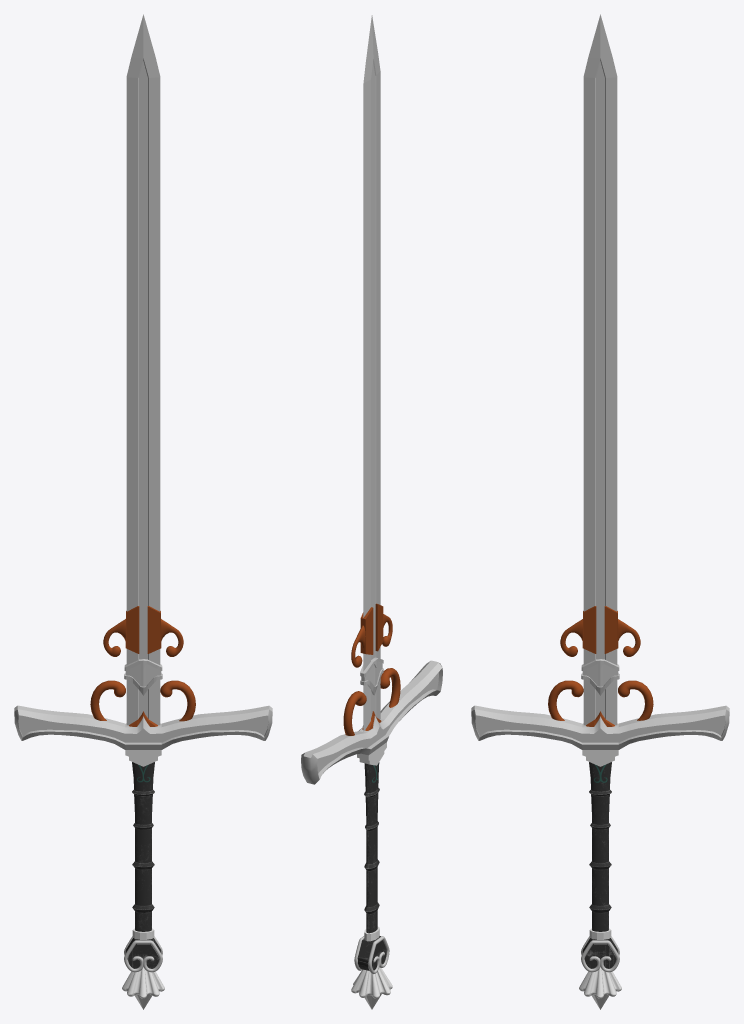
The model's file is Forme's sword - Copy.fbx.
3 views of the same model, side by side, from view 1: azimuth 90°, elevation 25°; view 2: azimuth 150°, elevation 25°; view 3: azimuth 270°, elevation 25° (orthographic).
Visible parts, largest first — view 1: lame, garde, Cylinder.002, ornement milieu, ornement garde, Cube.003, Cylinder.005, courbe dessus, BezierCurve, Cube.002; view 2: lame, garde, Cylinder.002, ornement garde, ornement milieu, Cylinder.005, Cube.002, Cube.003, courbe dessus, BezierCurve; view 3: lame, garde, Cylinder.002, ornement milieu, ornement garde, Cube.003, Cylinder.005, courbe dessus, BezierCurve, Cube.002.
Boxes of the visible parts, box(x1,y1,x2,y2) form: lame: box(126, 14, 160, 725); garde: box(14, 705, 272, 749); Cylinder.002: box(132, 762, 154, 940); ornement milieu: box(125, 606, 161, 653); ornement garde: box(90, 680, 195, 721); Cube.003: box(124, 659, 162, 695); Cylinder.005: box(122, 967, 164, 998); courbe dessus: box(103, 619, 183, 656); BezierCurve: box(124, 936, 162, 972); Cube.002: box(125, 938, 161, 968); lame: box(363, 15, 380, 731); garde: box(301, 660, 442, 784); Cylinder.002: box(364, 762, 379, 941); ornement garde: box(343, 668, 400, 735); ornement milieu: box(360, 603, 383, 654); Cylinder.005: box(351, 967, 392, 998); Cube.002: box(357, 936, 386, 970); Cube.003: box(360, 657, 383, 695); courbe dessus: box(351, 614, 392, 667); BezierCurve: box(354, 936, 389, 974); lame: box(583, 14, 617, 725); garde: box(471, 705, 729, 749); Cylinder.002: box(589, 762, 611, 940); ornement milieu: box(582, 606, 618, 653); ornement garde: box(548, 680, 653, 720); Cube.003: box(581, 659, 619, 695); Cylinder.005: box(579, 967, 621, 998); courbe dessus: box(560, 619, 640, 656); BezierCurve: box(581, 936, 619, 972); Cube.002: box(582, 938, 618, 968).
Size of the model in its own units: 18.05 by 463 by 109.
